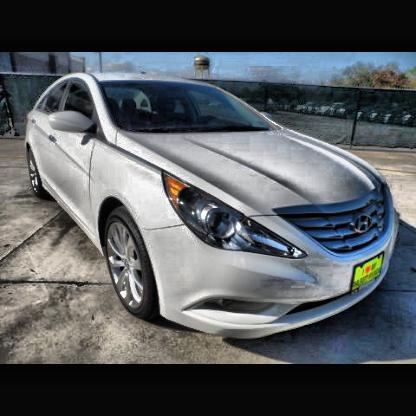Hyundai Sonata Sedan 2012: (26, 73, 402, 341)
